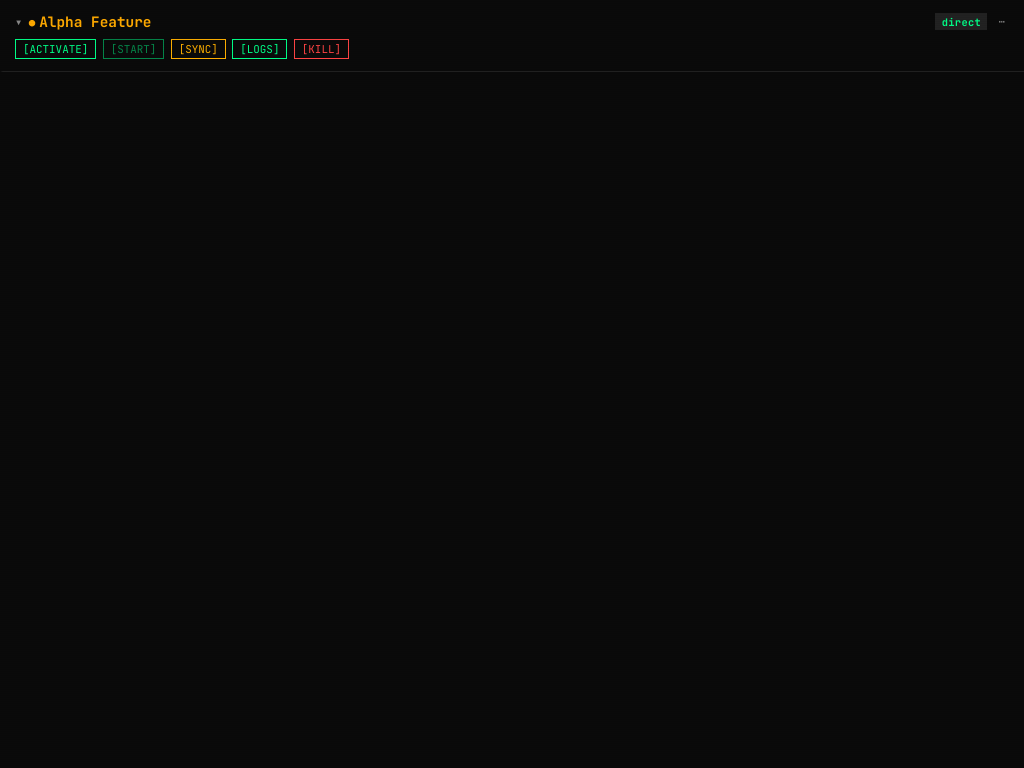
Test: FeatureCard — config menu › modal shows cluster and namespace when feature.host is set
Click the button named "Open Alpha Feature configuration": (1002, 22) [991,14,1012,29]
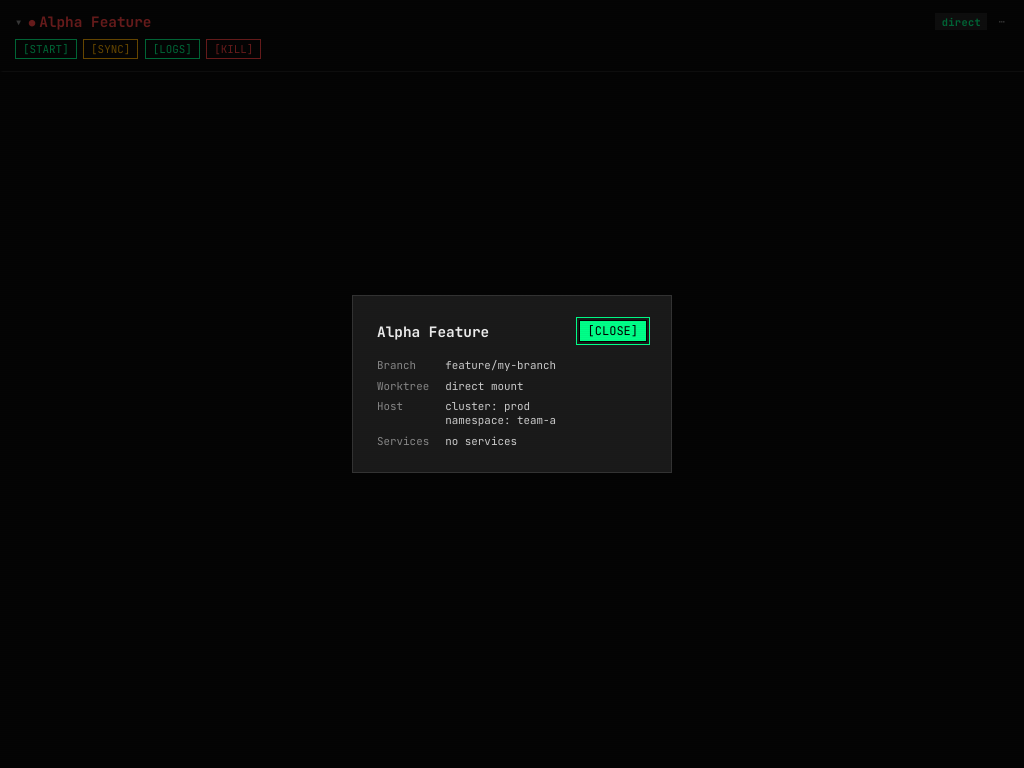
Result: the text "Host" is shown at [377,399,403,413]
Result: the text "cluster: prod" is shown at [445,399,530,413]
Result: the text "namespace: team-a" is shown at [445,413,556,427]
